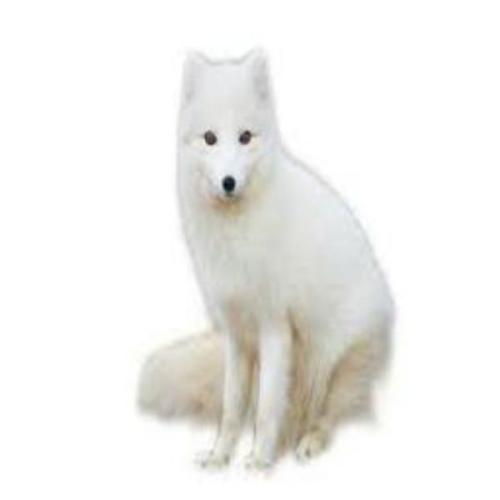arctic_fox-endangered: (136, 49, 395, 468)
